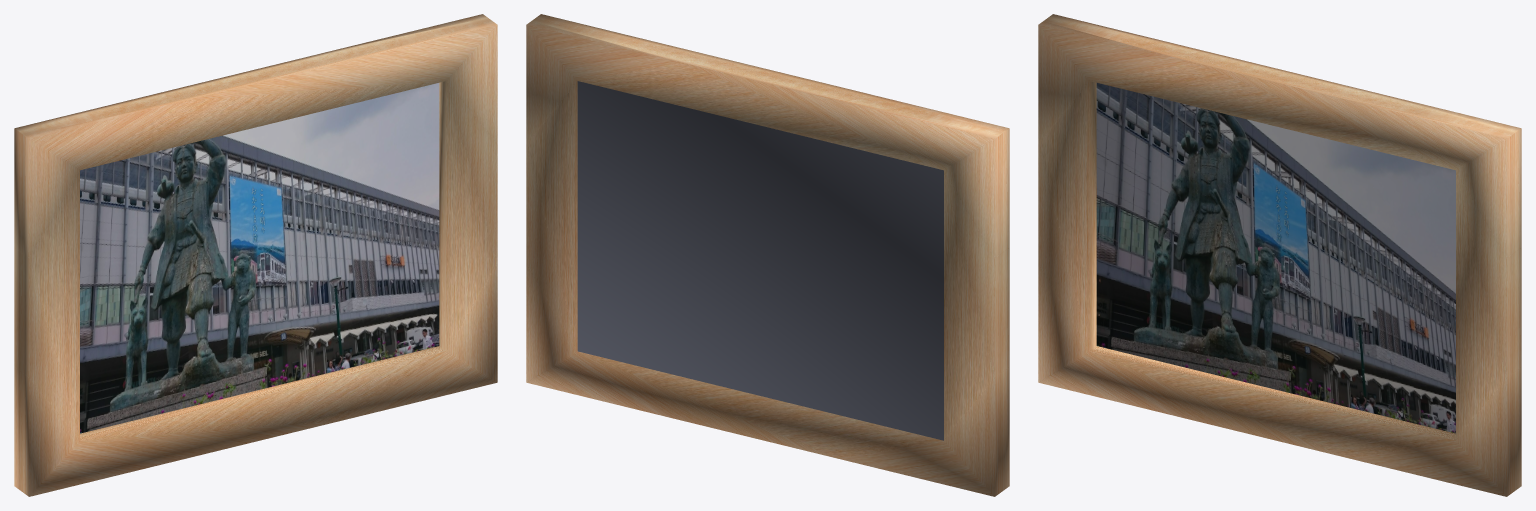
File: photo1.fbx
The picture shows the model from 3 angles, left to right: view 1: azimuth 30°, elevation 25°; view 2: azimuth 150°, elevation 25°; view 3: azimuth 330°, elevation 25°; orthographic projection.
Parts seen in each view (by area): view 1: photo, photo_f; view 2: photo_f; view 3: photo, photo_f.
Boxes of the visible parts, x1,y1,x2,y2 form: photo: (80,83,439,433); photo_f: (14,14,497,496); photo_f: (526,14,1009,496); photo: (1096,83,1455,433); photo_f: (1038,14,1521,496).
Size of the model in its own units: 382 by 279 by 20.68.
